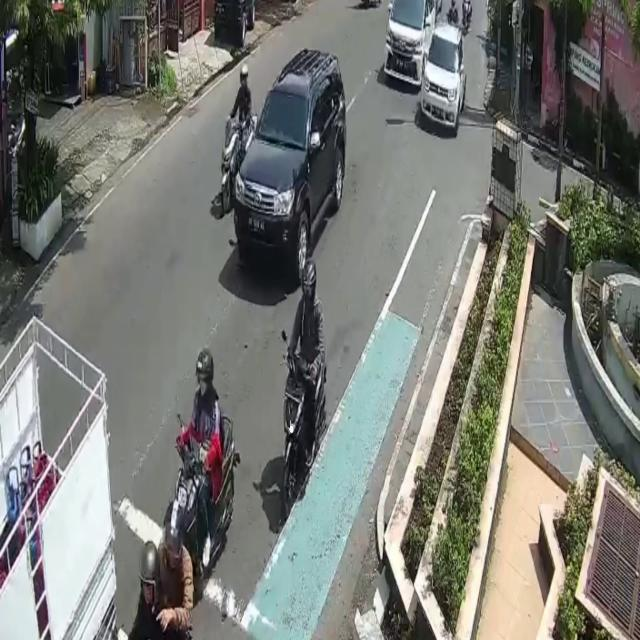car: (234, 46, 346, 282), (422, 23, 468, 138), (384, 0, 436, 88)
motorbike: (167, 415, 234, 538), (279, 346, 326, 514), (220, 110, 258, 216)
truck: (0, 306, 117, 640)
